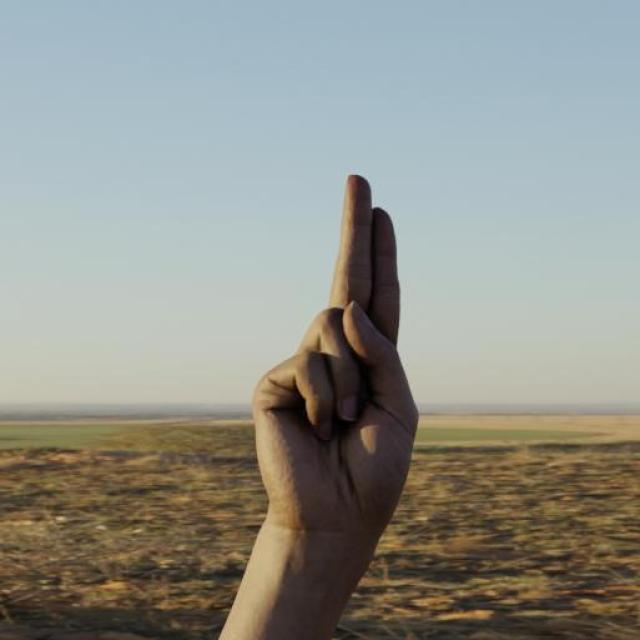U: (203, 121, 438, 640)
